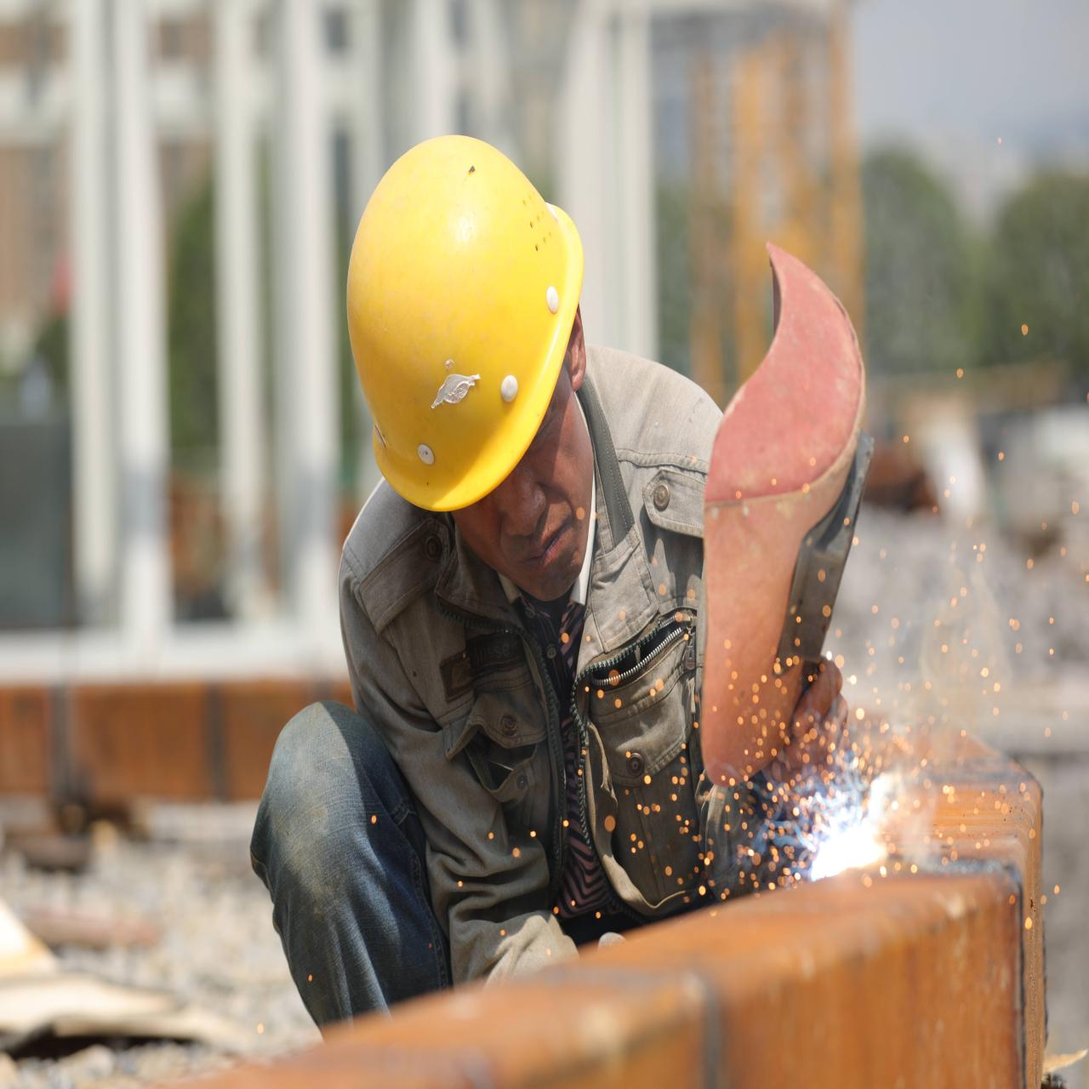NO_Safety_Vest: (361, 405, 725, 936)
Person: (185, 89, 893, 1014)
